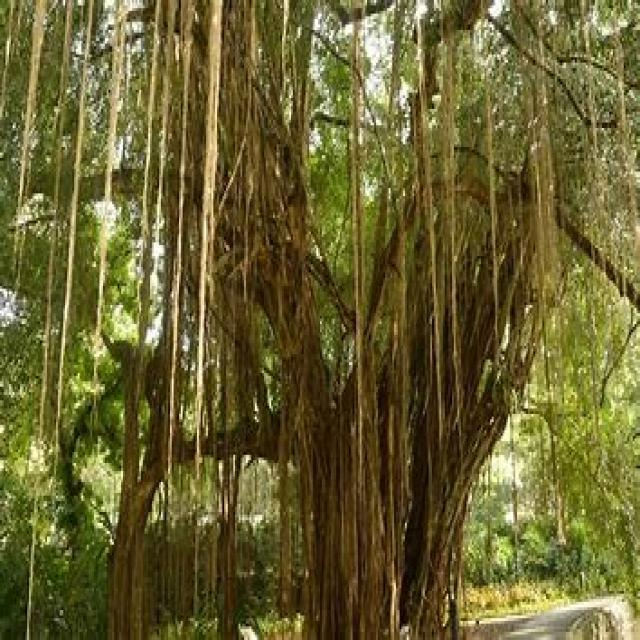Banyan-Tree: (0, 0, 640, 640), (146, 32, 530, 640)
